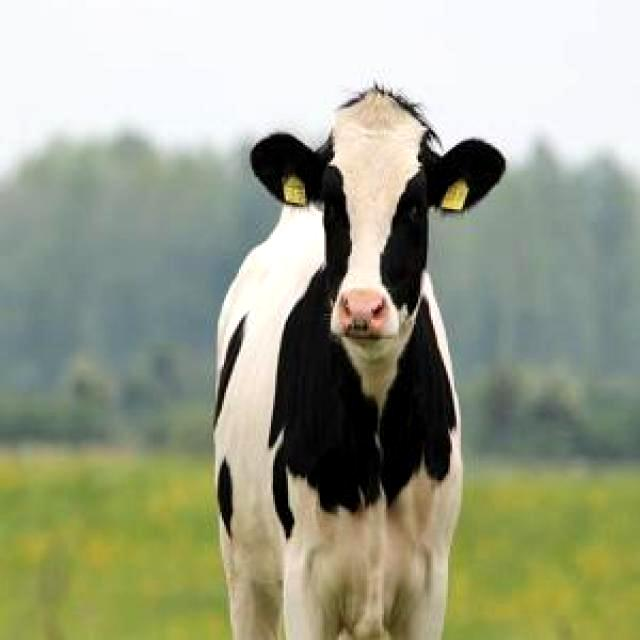COW: (214, 86, 505, 640)
